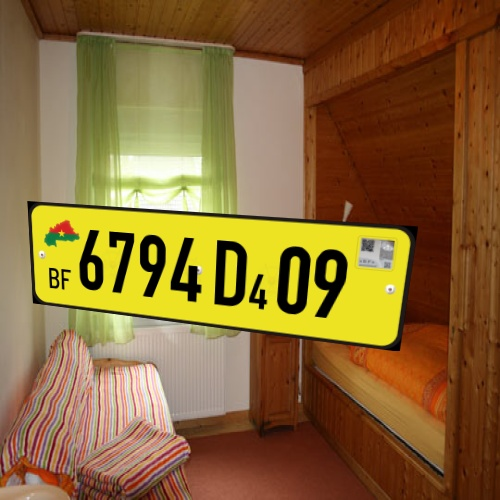plate: (21, 190, 419, 361)
